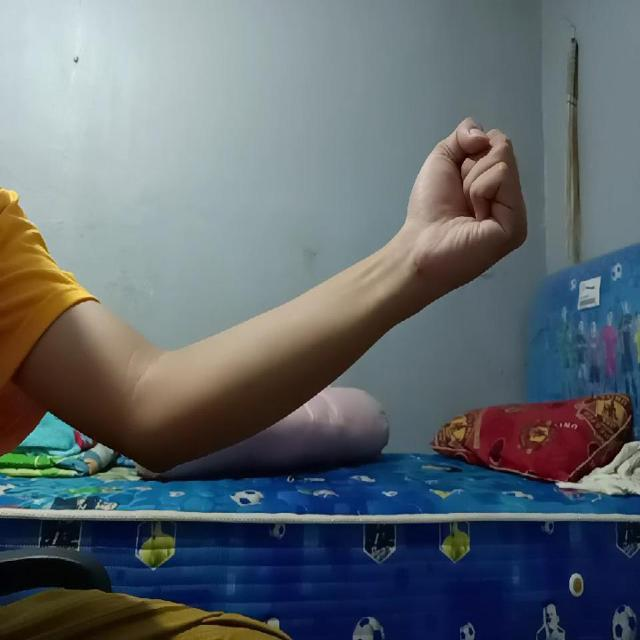fist: (406, 108, 528, 296)
